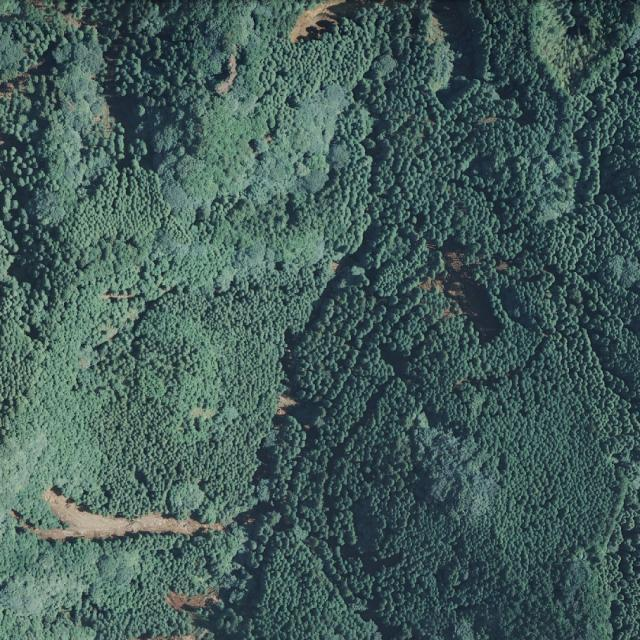landslide: (23, 488, 224, 541), (290, 0, 347, 42), (217, 52, 238, 94)
